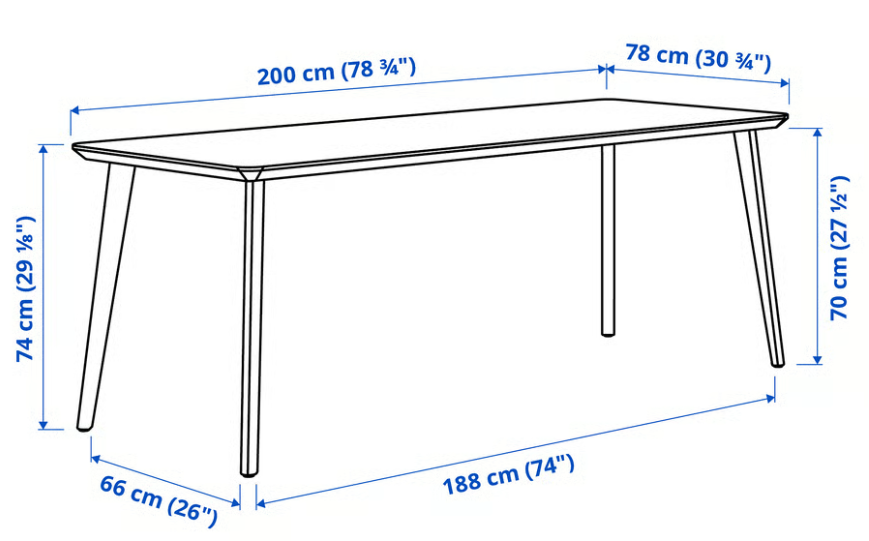table_legs: (77, 164, 135, 431), (733, 130, 784, 366), (241, 180, 265, 475), (602, 145, 615, 336)
table_top: (73, 99, 788, 181)
